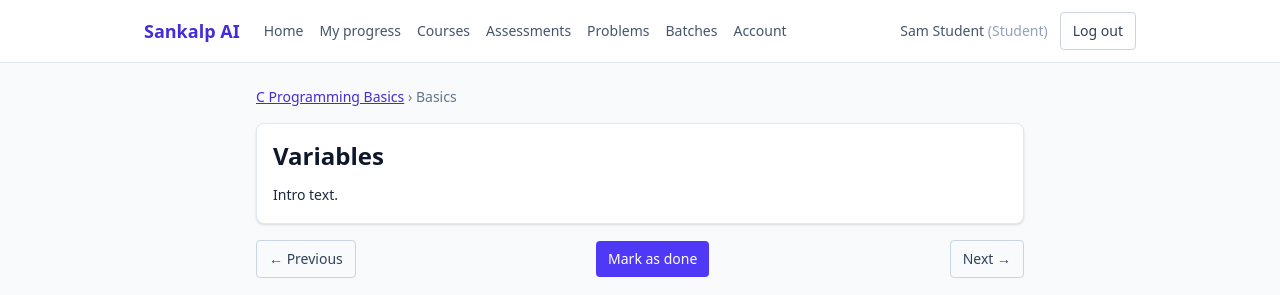
Test case: lesson page › marks a lesson as done and lets the student undo it
Click the button "Mark as done".
click(653, 259)  # box [596,241,709,277]
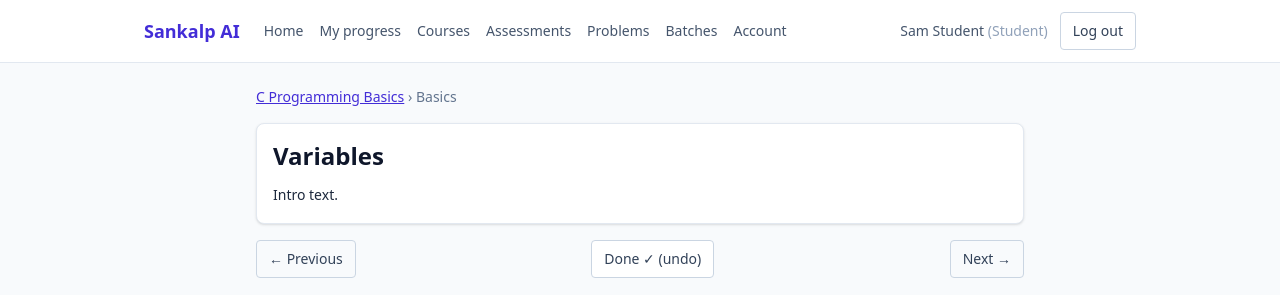
Check: the button "Done ✓ (undo)" is shown
Click the button "Done ✓ (undo)".
click(653, 259)  # box [591,240,714,278]
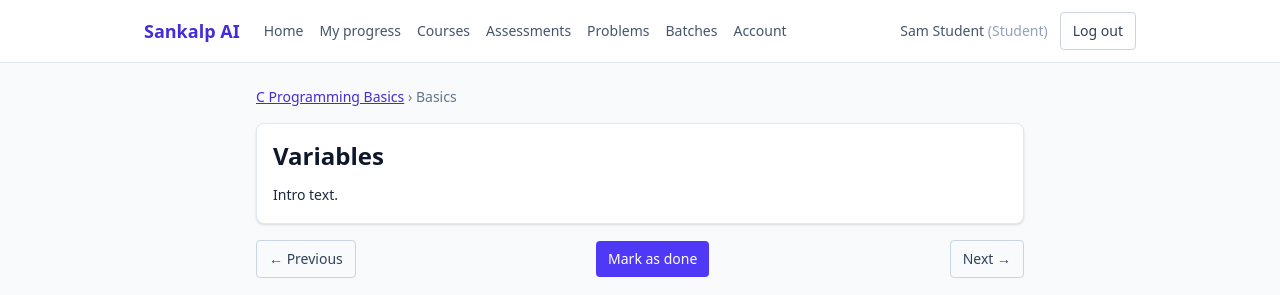
Check: the button "Mark as done" is shown, box [596,241,709,277]
